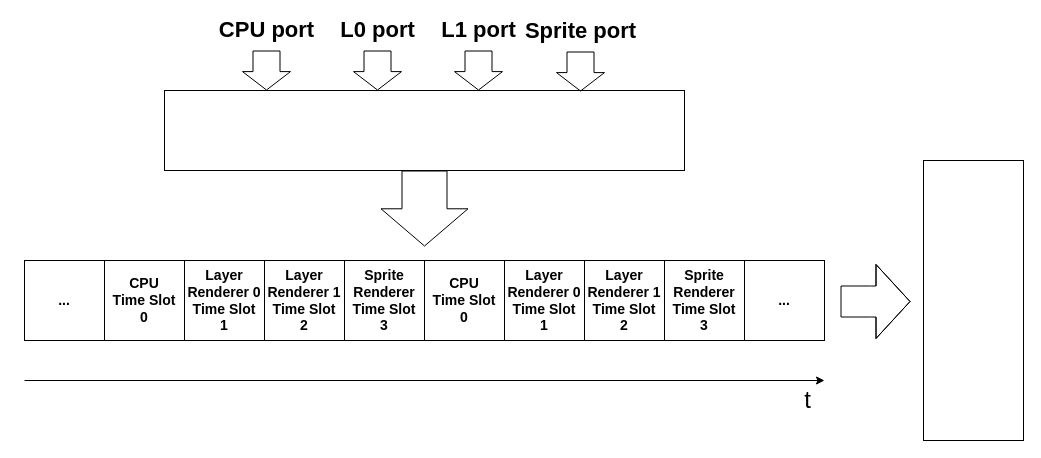
Some shapes in this 1041 by 458 pixel diagram are drawn without their labels. Each missing label, with the box of its shape:
VRAM: (922, 160, 1024, 440)
VRAM_IF: (164, 90, 684, 170)
